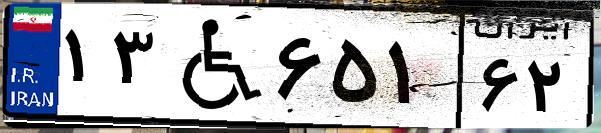1: (385, 28, 445, 110), (57, 26, 110, 100)
2: (525, 38, 570, 115)
3: (110, 28, 158, 98)
5: (330, 28, 385, 110)
6: (270, 28, 330, 110), (475, 38, 525, 113)
ژ (معلولین و جانبازان): (158, 12, 270, 120)
